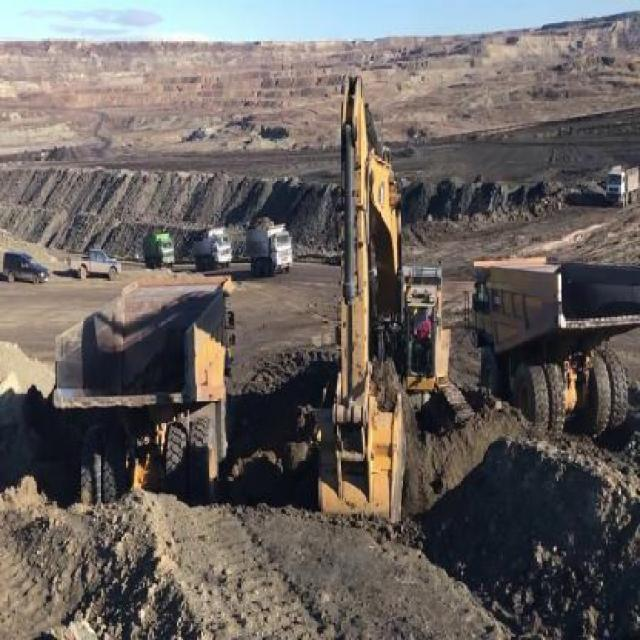Dump Truck: (45, 276, 240, 522), (464, 240, 638, 455), (247, 220, 295, 278), (191, 228, 232, 266), (602, 163, 636, 202), (142, 232, 175, 270)
Excavator: (312, 73, 474, 529)
